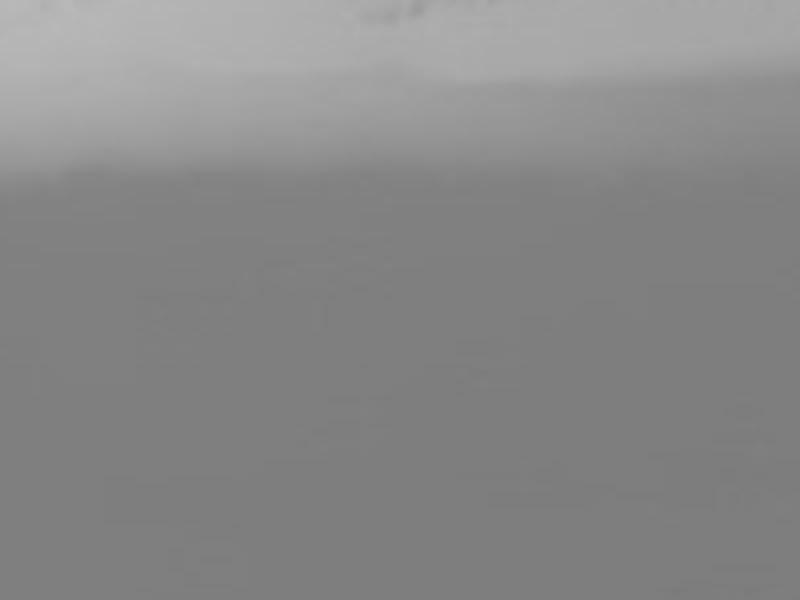defect: (377, 4, 397, 31), (356, 4, 379, 26), (401, 1, 428, 17)
